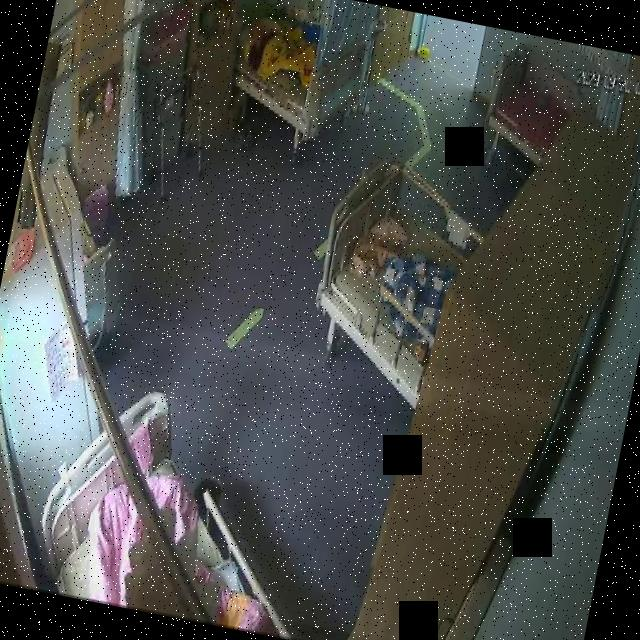bed: (27, 372, 308, 636), (303, 151, 488, 402), (226, 0, 376, 142), (478, 38, 582, 168)
walker: (137, 60, 222, 205)
